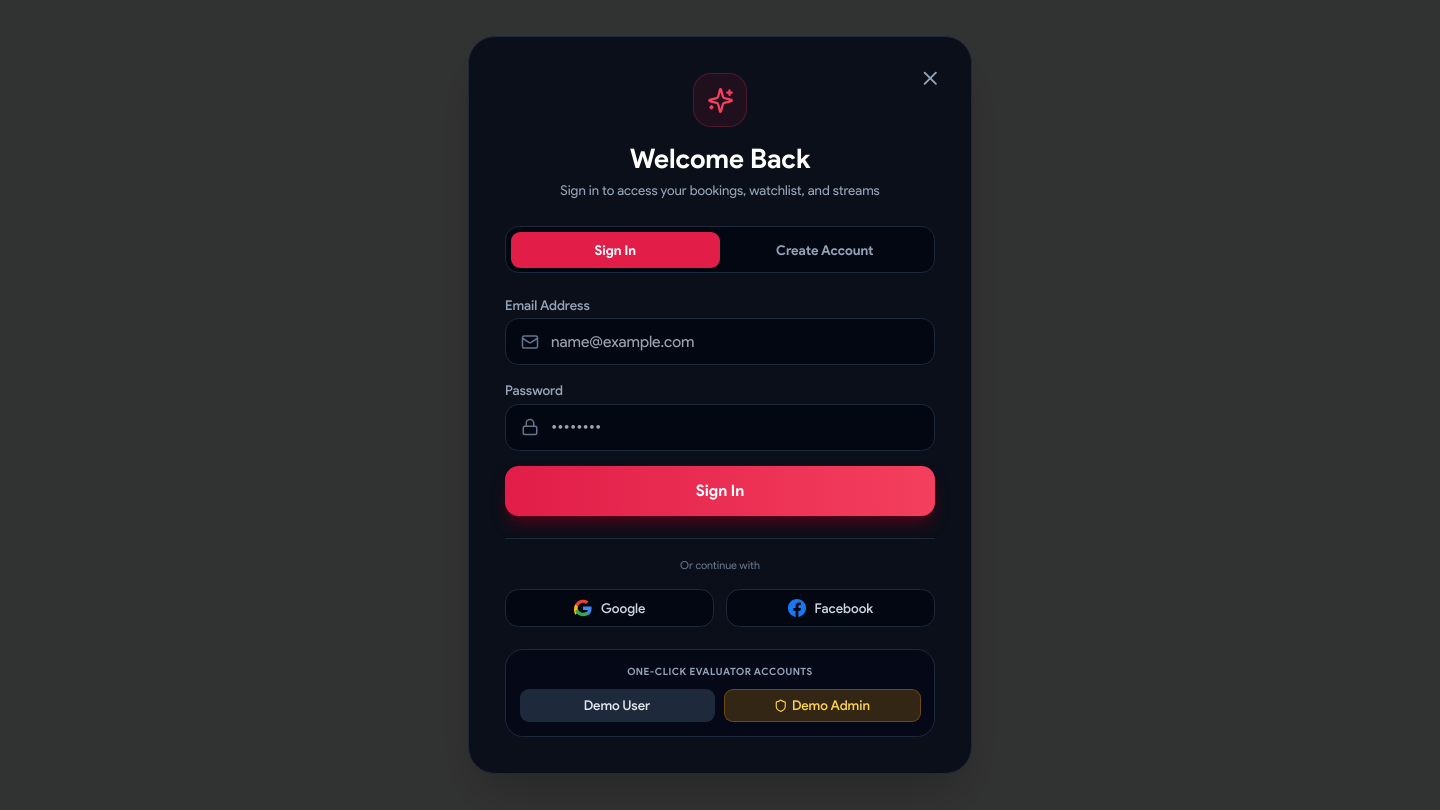
AuthModal & LoginForm › switches to registration mode when Create Account button is clicked
Click the button "Create Account". click: click(825, 250)
box: [720,232,930,268]
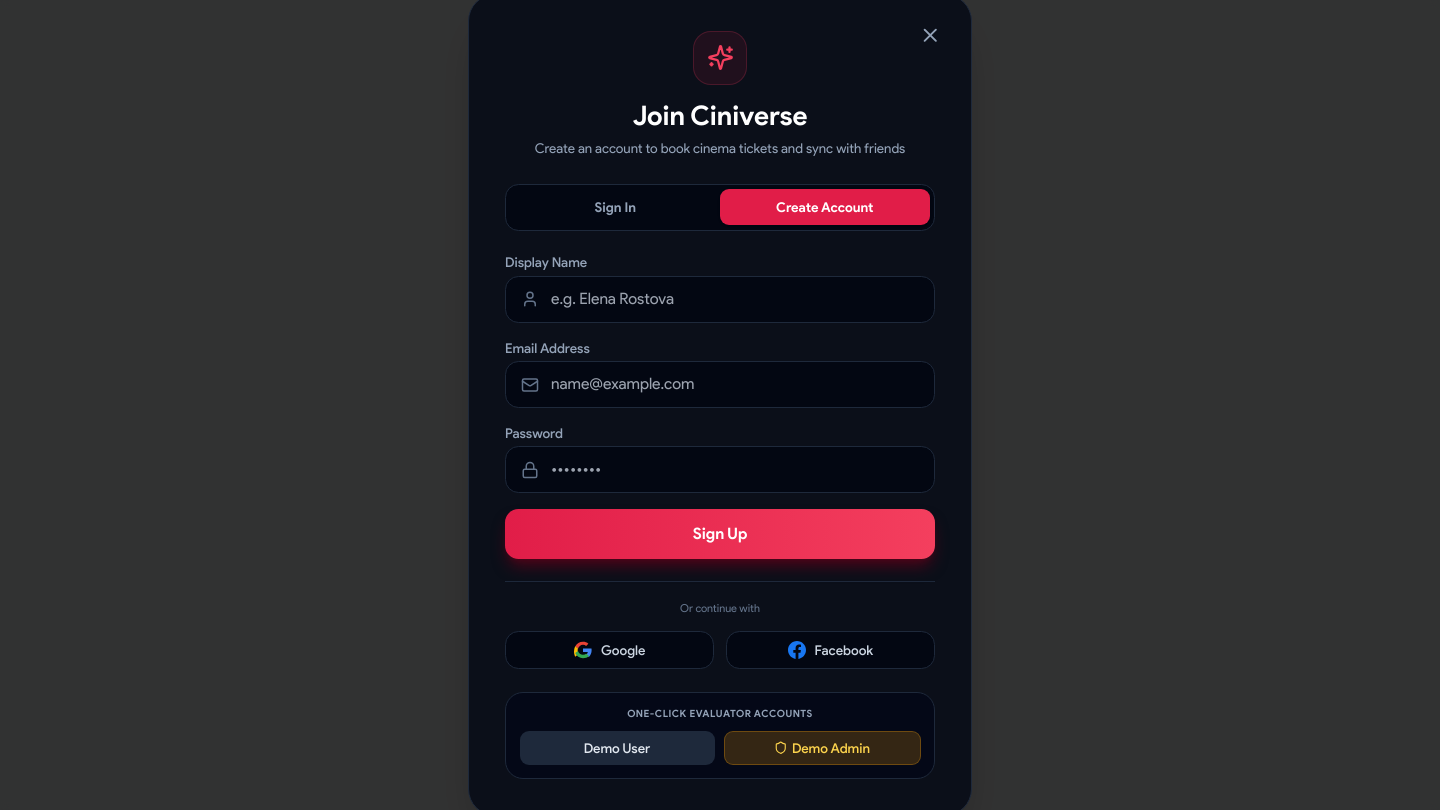
Now the heading "Join Ciniverse" is shown, box [632,99,808,132]
Now the field with placeholder "e.g. Elena Rostova" is shown, box [505,276,935,323]
Now the button "Sign Up" is shown, box [505,509,935,559]
